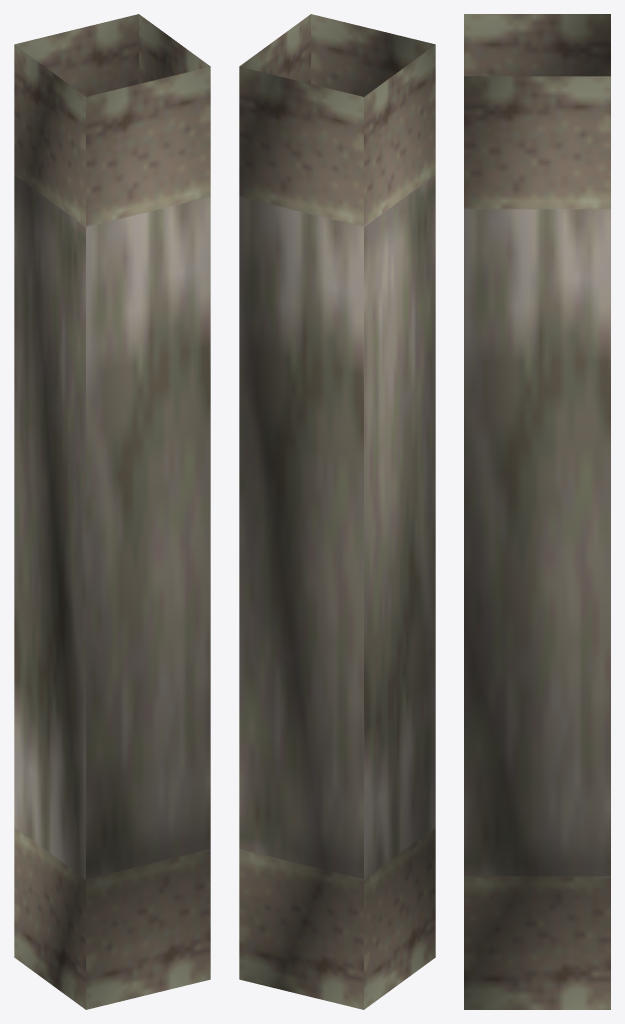
The picture shows the model from 3 angles, left to right: view 1: azimuth 30°, elevation 25°; view 2: azimuth 150°, elevation 25°; view 3: azimuth 270°, elevation 25°; orthographic projection. The views are drawn at different scales.
Parts seen in each view (by area): view 1: T1L7M004_14; view 2: T1L7M004_14; view 3: T1L7M004_14.
Boxes of the visible parts, x1=… form: T1L7M004_14: x1=14, y1=14, x2=210, y2=1009; T1L7M004_14: x1=239, y1=14, x2=435, y2=1009; T1L7M004_14: x1=464, y1=14, x2=610, y2=1009.
Bounding box in the file's own units: 0.4004 × 2.8 × 0.3994.
